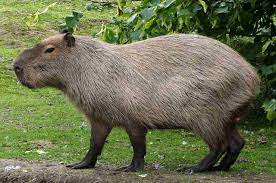capivara: (13, 28, 265, 173)
